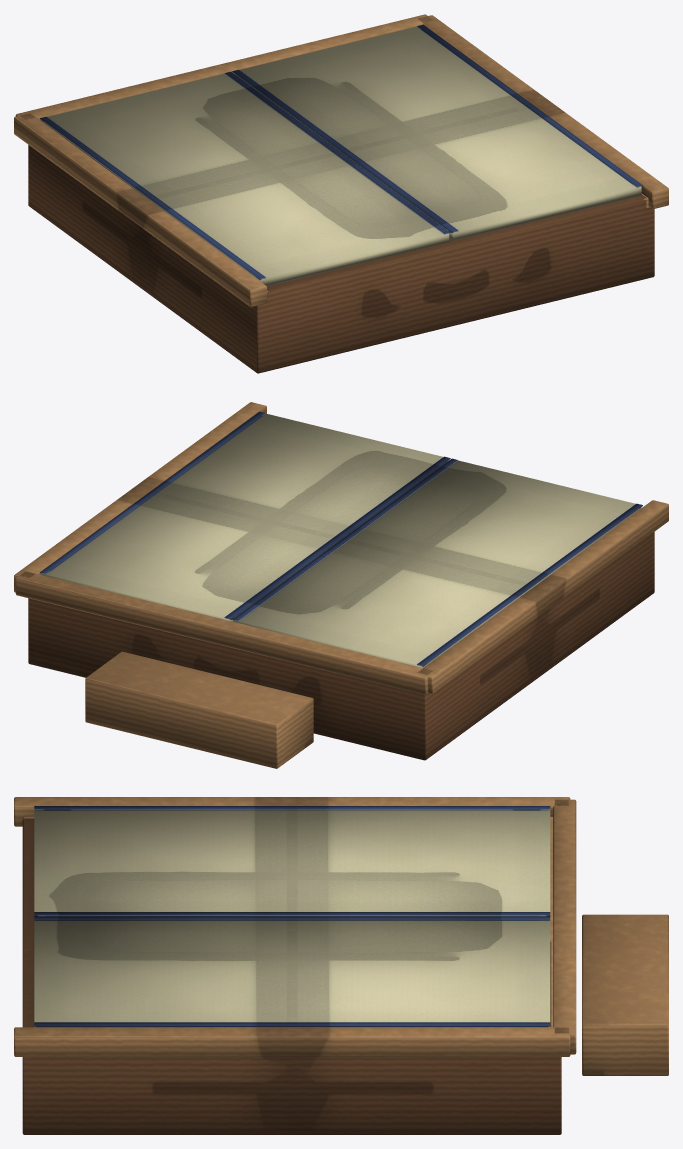
Rendered from koagari_2.glb.
3 renders of one model, top to bottom at view 1: azimuth 30°, elevation 25°; view 2: azimuth 150°, elevation 25°; view 3: azimuth 270°, elevation 25°, orthographic. The views are drawn at different scales.
Visible parts, largest first — view 1: prop_koagari_2_felt, prop_koagari_2_wood; view 2: prop_koagari_2_felt, prop_koagari_2_wood; view 3: prop_koagari_2_felt, prop_koagari_2_wood.
Boxes of the visible parts, <box> form: prop_koagari_2_felt: <box>40,24,642,286</box>; prop_koagari_2_wood: <box>14,14,668,373</box>; prop_koagari_2_felt: <box>40,411,642,667</box>; prop_koagari_2_wood: <box>14,402,668,768</box>; prop_koagari_2_felt: <box>34,806,550,1027</box>; prop_koagari_2_wood: <box>14,797,668,1134</box>.
Size of the model in its own units: 3.92 by 0.804 by 4.52.
2 materials, 2 textured.
